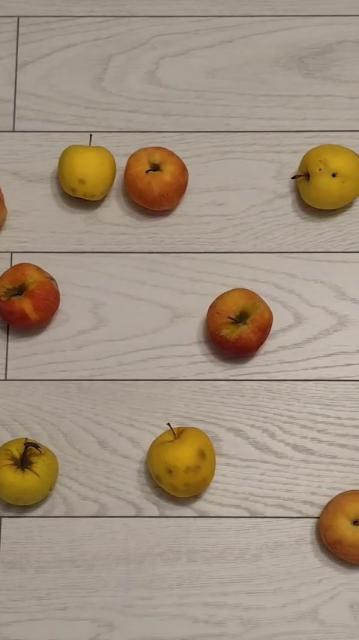apple_green: (146, 420, 215, 497), (293, 144, 359, 209), (0, 437, 57, 504), (58, 140, 117, 201)
apple_red: (206, 288, 274, 357), (123, 146, 188, 211), (0, 262, 61, 330), (318, 489, 359, 565)
